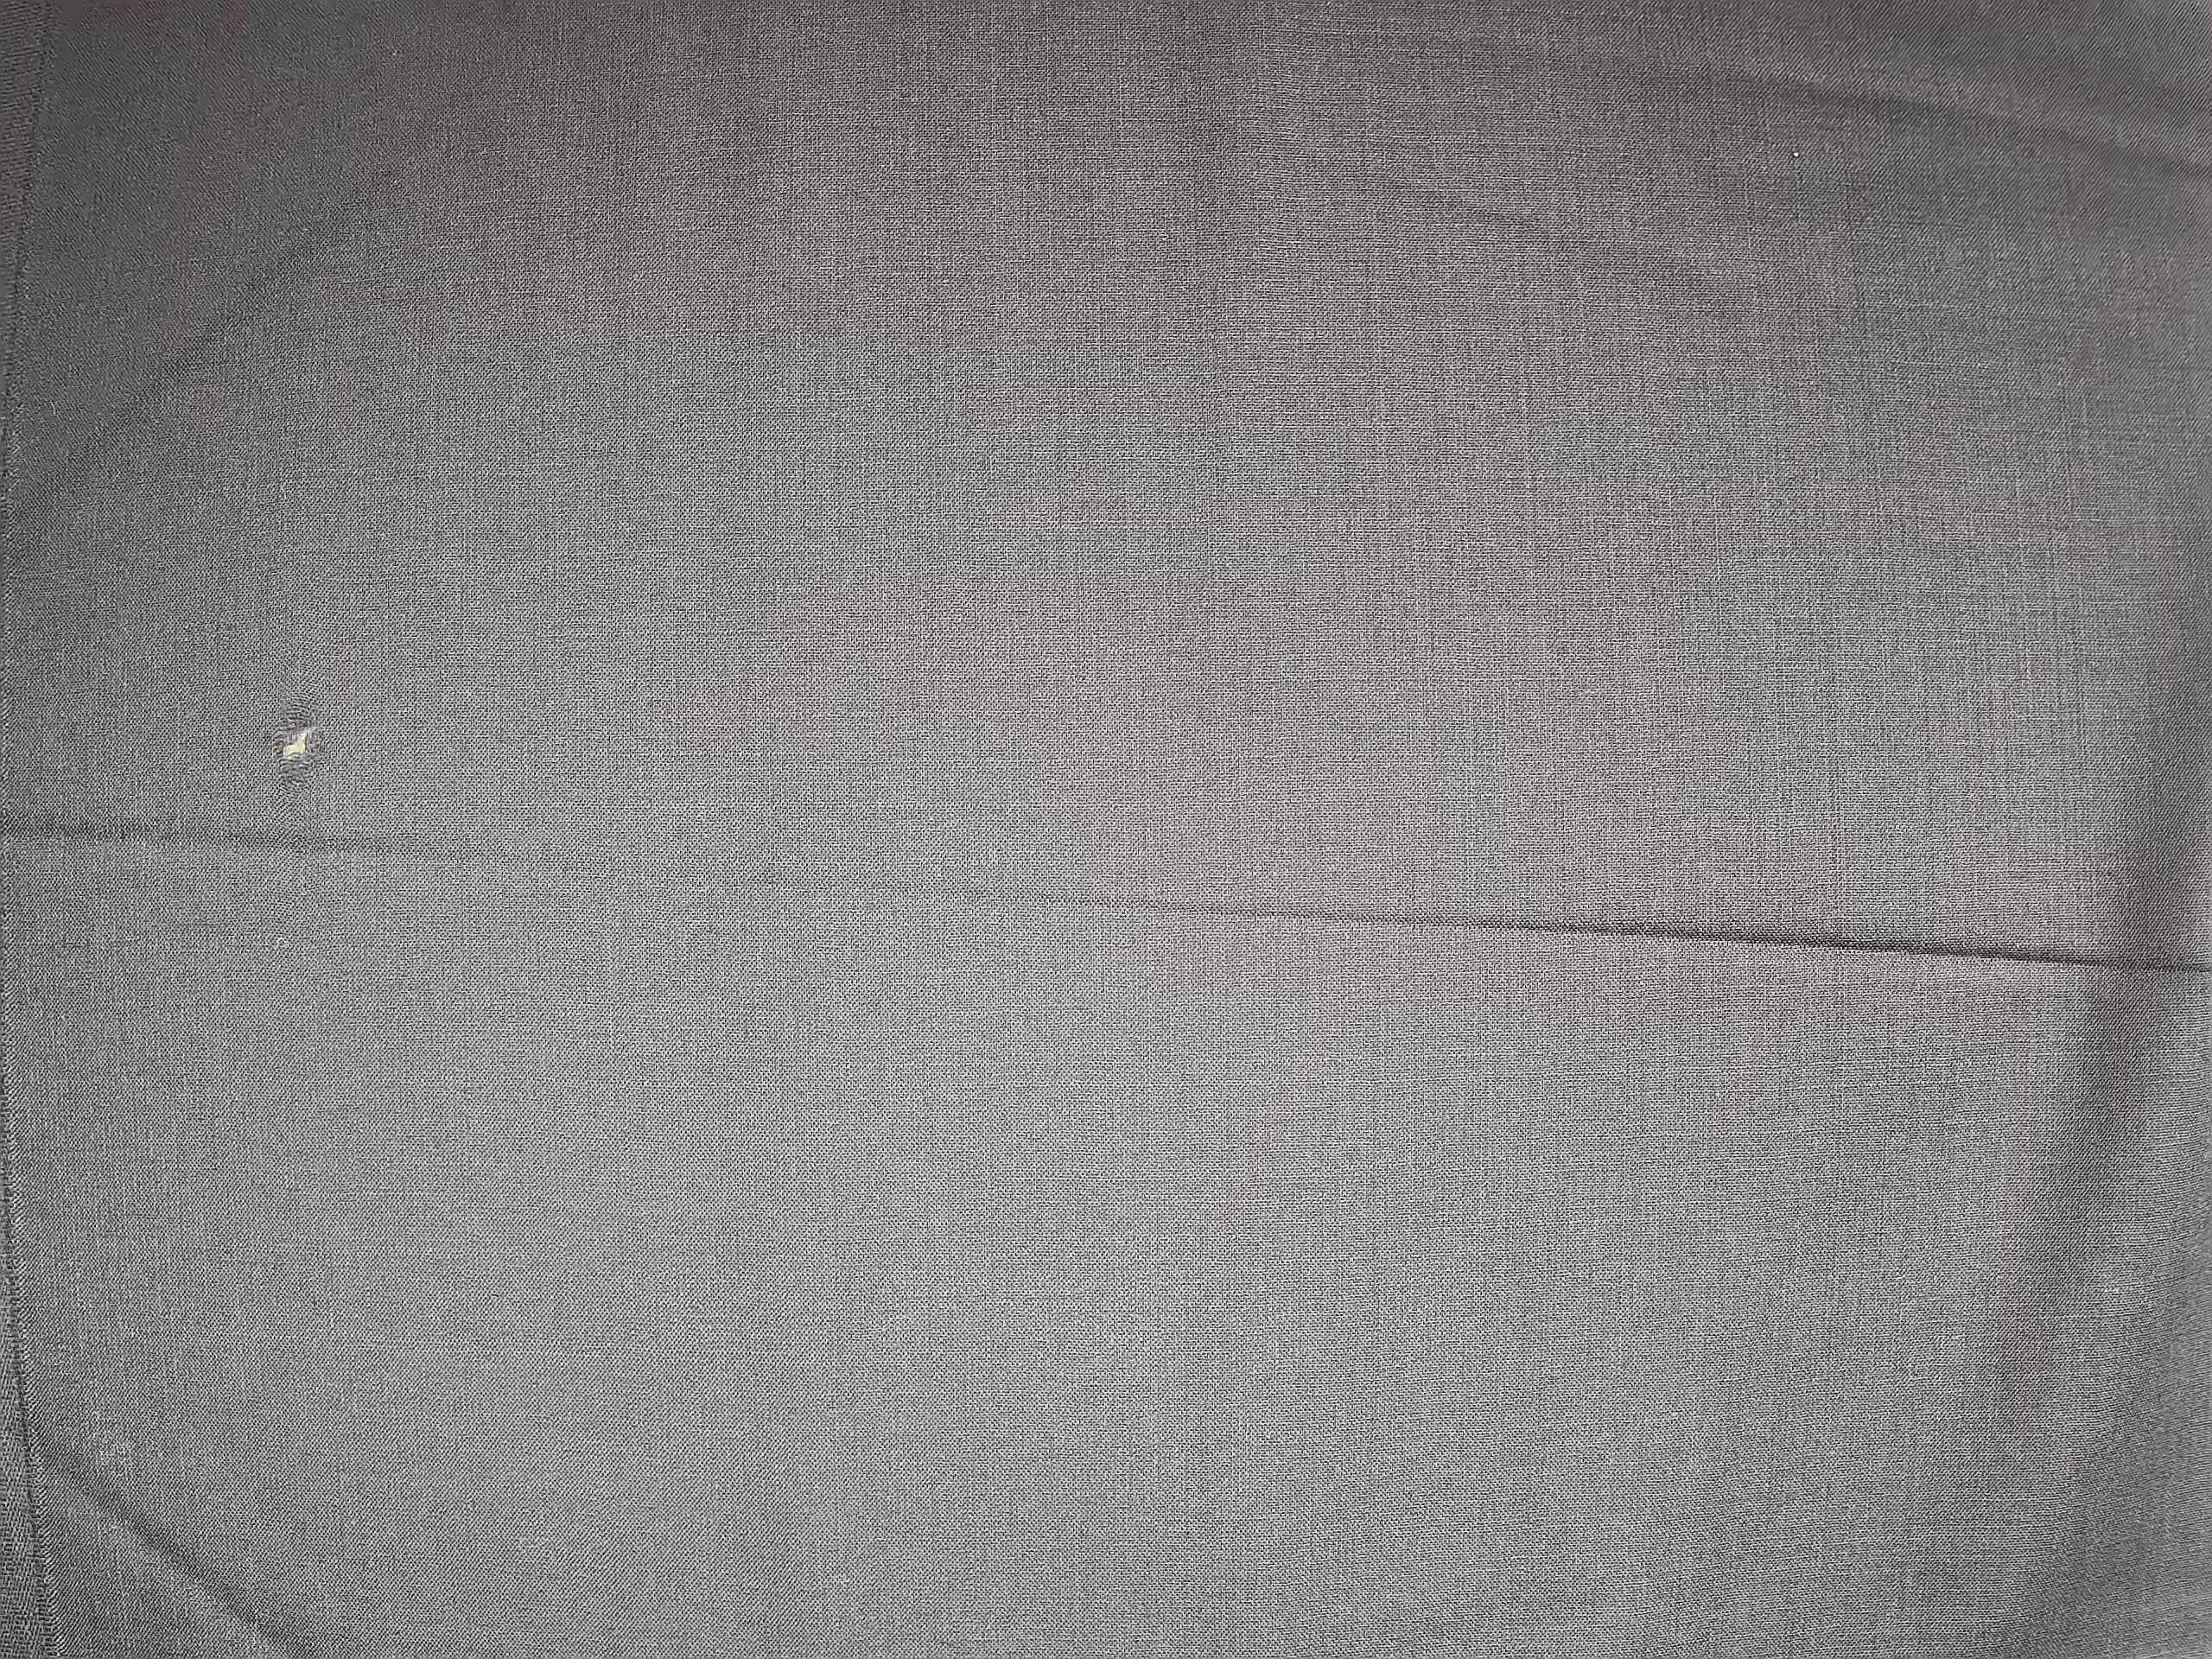rubbing-hole: (256, 695, 331, 784)
